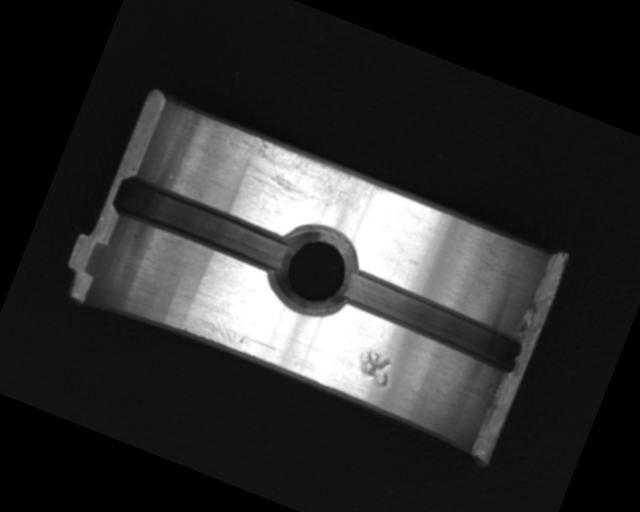bruise: (350, 345, 398, 389)
gap: (332, 265, 530, 380), (109, 172, 295, 278)
hole: (260, 213, 370, 328)
scratch: (212, 124, 394, 237)
